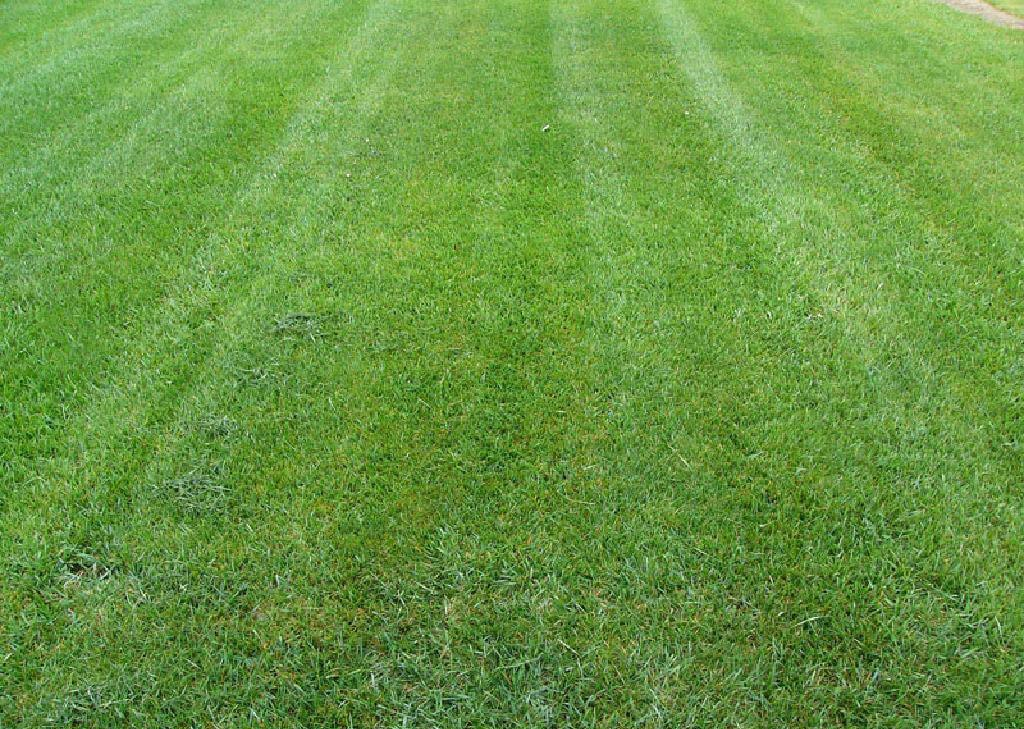grass: (1, 3, 1024, 729)
